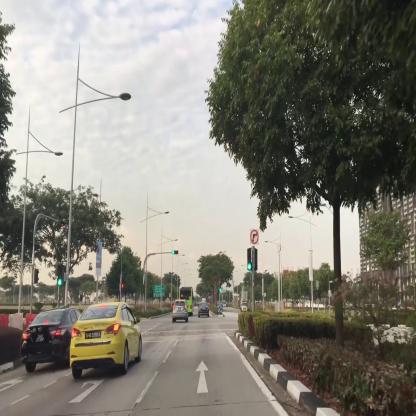green_traffic_light: (247, 248, 252, 270), (57, 264, 62, 284), (172, 250, 178, 254)
